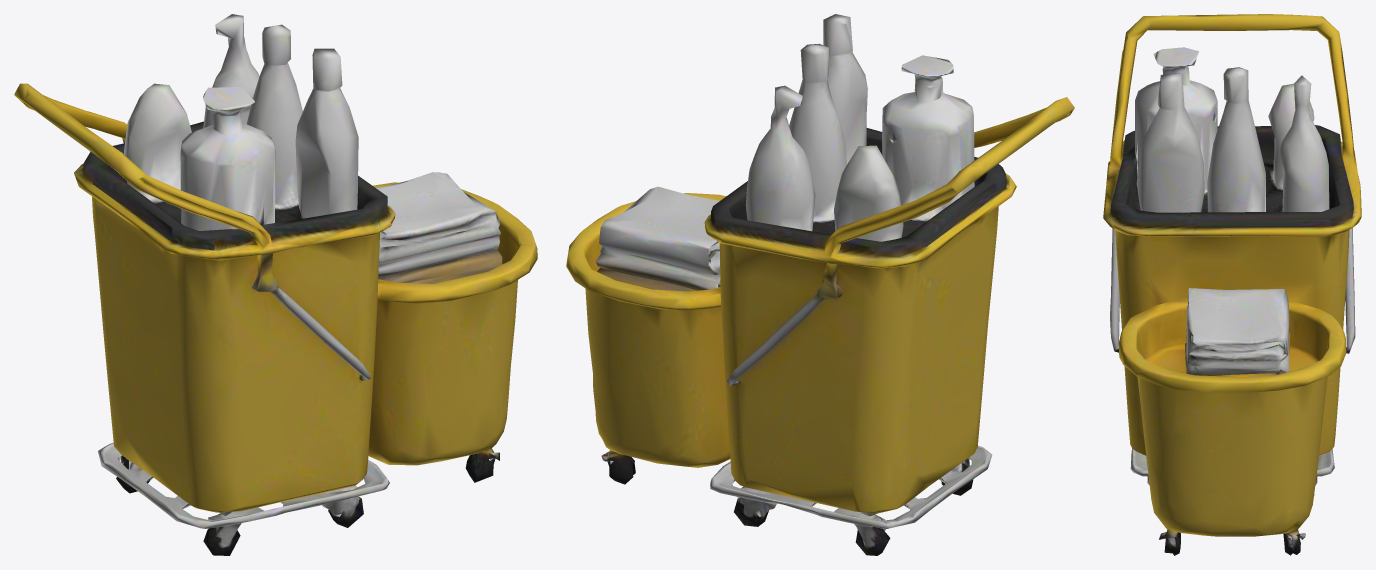
File: cart-v2.glb
3 renders of one model, left to right at view 1: azimuth 30°, elevation 25°; view 2: azimuth 150°, elevation 25°; view 3: azimuth 270°, elevation 25°, orthographic. The views are drawn at different scales.
Visible parts, largest first — view 1: prop__cart; view 2: prop__cart; view 3: prop__cart.
Boxes of the visible parts, x1,y1,x2,y2 form: prop__cart: [14, 14, 537, 555]; prop__cart: [566, 14, 1074, 555]; prop__cart: [1103, 14, 1361, 555].
Size of the model in its own units: 0.9957 by 1 by 0.5627.
1 material, 1 textured.
